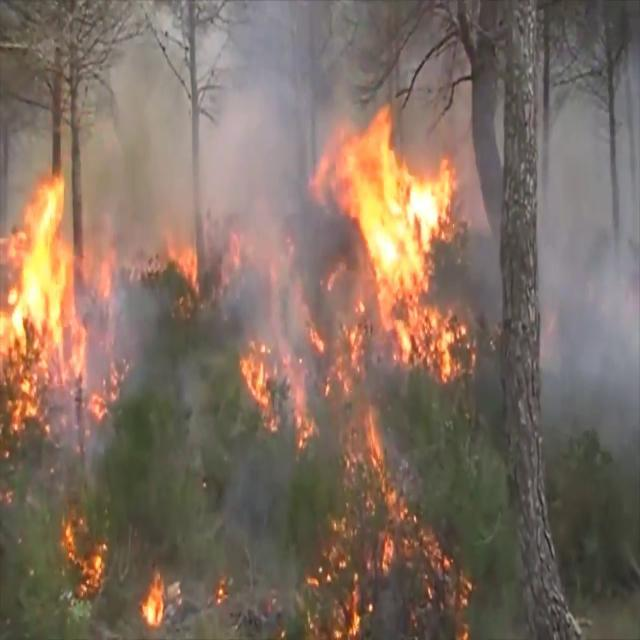Fire: (321, 100, 477, 373), (0, 164, 100, 412), (235, 312, 333, 454), (106, 217, 204, 307), (137, 563, 183, 629)
Smoke: (80, 11, 338, 381), (500, 3, 640, 496)
